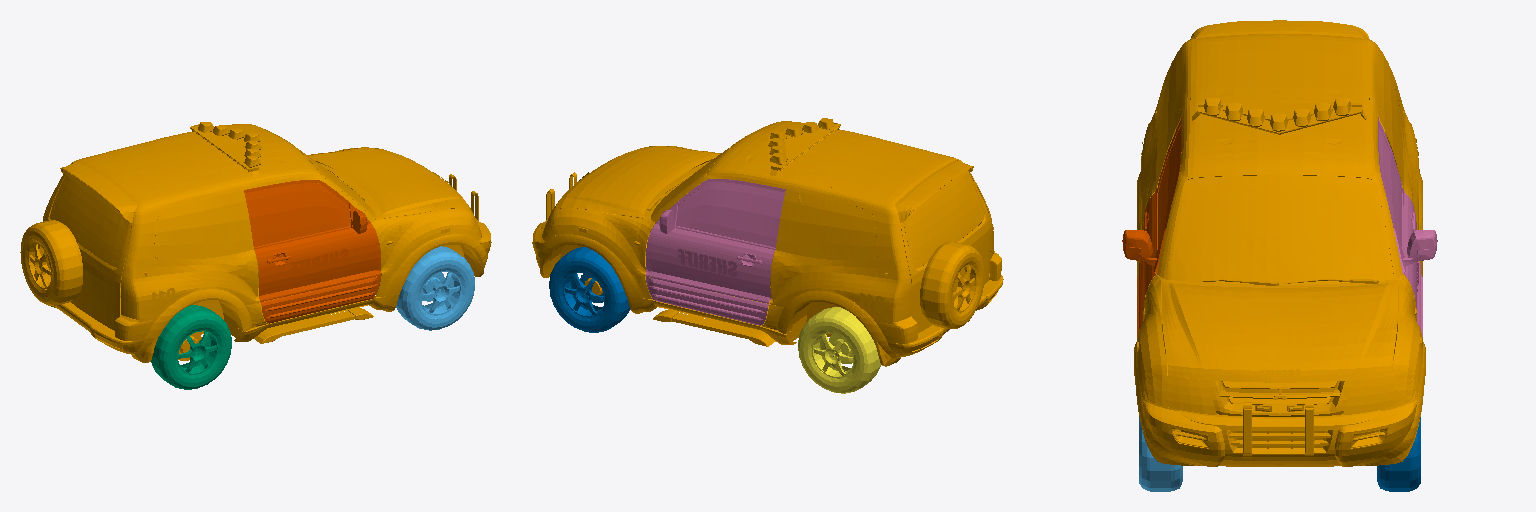
The robot description file, URDF, robot "predicted_car_backward_hinged":
<?xml version="1.0"?>
<robot name="predicted_car_backward_hinged">
  <link name="base_link">
    <visual>
      <geometry>
        <mesh filename="meshes/part_02.stl"/>
      </geometry>
    </visual>
    <visual>
      <geometry>
        <mesh filename="meshes/part_07.stl"/>
      </geometry>
    </visual>
    <visual>
      <geometry>
        <mesh filename="meshes/part_08.stl"/>
      </geometry>
    </visual>
    <visual>
      <geometry>
        <mesh filename="meshes/part_09.stl"/>
      </geometry>
    </visual>
    <visual>
      <geometry>
        <mesh filename="meshes/part_10.stl"/>
      </geometry>
    </visual>
    <visual>
      <geometry>
        <mesh filename="meshes/part_11.stl"/>
      </geometry>
    </visual>
    <visual>
      <geometry>
        <mesh filename="meshes/part_12.stl"/>
      </geometry>
    </visual>
  </link>
  <link name="link_user_sketch_1779224070224_J0">
    <visual>
      <origin xyz="-0.3199 0.1786 0.1377" rpy="0 0 0"/>
      <geometry>
        <mesh filename="meshes/part_01.stl"/>
      </geometry>
    </visual>
  </link>
  <joint name="joint_user_sketch_1779224070224_J0" type="continuous">
    <parent link="base_link"/>
    <child link="link_user_sketch_1779224070224_J0"/>
    <origin xyz="0.3199 -0.1786 -0.1377" rpy="0 0 0"/>
    <axis xyz="0.0000 -1.0000 0.0000"/>
  </joint>
  <link name="link_user_sketch_1779224070224_J1">
    <visual>
      <origin xyz="0.2687 0.1786 0.1377" rpy="0 0 0"/>
      <geometry>
        <mesh filename="meshes/part_06.stl"/>
      </geometry>
    </visual>
  </link>
  <joint name="joint_user_sketch_1779224070224_J1" type="continuous">
    <parent link="base_link"/>
    <child link="link_user_sketch_1779224070224_J1"/>
    <origin xyz="-0.2687 -0.1786 -0.1377" rpy="0 0 0"/>
    <axis xyz="0.0000 -1.0000 0.0000"/>
  </joint>
  <link name="link_user_sketch_1779224070224_J2">
    <visual>
      <origin xyz="0.2687 -0.1786 0.1377" rpy="0 0 0"/>
      <geometry>
        <mesh filename="meshes/part_05.stl"/>
      </geometry>
    </visual>
  </link>
  <joint name="joint_user_sketch_1779224070224_J2" type="continuous">
    <parent link="base_link"/>
    <child link="link_user_sketch_1779224070224_J2"/>
    <origin xyz="-0.2687 0.1786 -0.1377" rpy="0 0 0"/>
    <axis xyz="0.0000 1.0000 0.0000"/>
  </joint>
  <link name="link_user_sketch_1779224070224_J3">
    <visual>
      <origin xyz="-0.3199 -0.1786 0.1377" rpy="0 0 0"/>
      <geometry>
        <mesh filename="meshes/part_00.stl"/>
      </geometry>
    </visual>
  </link>
  <joint name="joint_user_sketch_1779224070224_J3" type="continuous">
    <parent link="base_link"/>
    <child link="link_user_sketch_1779224070224_J3"/>
    <origin xyz="0.3199 0.1786 -0.1377" rpy="0 0 0"/>
    <axis xyz="0.0000 1.0000 0.0000"/>
  </joint>
  <link name="link_user_sketch_1779224070224_J4">
    <visual>
      <origin xyz="0.1181 0.1767 -0.0750" rpy="0 0 0"/>
      <geometry>
        <mesh filename="meshes/part_04.stl"/>
      </geometry>
    </visual>
  </link>
  <joint name="joint_user_sketch_1779224070224_J4" type="revolute">
    <parent link="base_link"/>
    <child link="link_user_sketch_1779224070224_J4"/>
    <origin xyz="-0.1181 -0.1767 0.0750" rpy="0 0 0"/>
    <axis xyz="0.0195 -0.2261 -0.9739"/>
    <limit lower="0.0" upper="1.5708" effort="1000" velocity="1.0"/>
  </joint>
  <link name="link_user_sketch_1779224070224_J5">
    <visual>
      <origin xyz="0.1193 -0.1693 -0.1125" rpy="0 0 0"/>
      <geometry>
        <mesh filename="meshes/part_03.stl"/>
      </geometry>
    </visual>
  </link>
  <joint name="joint_user_sketch_1779224070224_J5" type="revolute">
    <parent link="base_link"/>
    <child link="link_user_sketch_1779224070224_J5"/>
    <origin xyz="-0.1193 0.1693 0.1125" rpy="0 0 0"/>
    <axis xyz="-0.0173 -0.3043 0.9524"/>
    <limit lower="0.0" upper="1.5708" effort="1000" velocity="1.0"/>
  </joint>
</robot>

--- Facts derived from the render (not from the file) ---
Views: 3 orthographic renders of the robot side by side, from view 1: azimuth 30°, elevation 25°; view 2: azimuth 150°, elevation 25°; view 3: azimuth 270°, elevation 25°.
Model predicted_car_backward_hinged with 7 links and 6 joints (2 revolute, 4 continuous), rooted at base_link, posed every joint at zero.
Visible links, largest first — view 1: base_link, link_user_sketch_1779224070224_J4, link_user_sketch_1779224070224_J1, link_user_sketch_1779224070224_J0; view 2: base_link, link_user_sketch_1779224070224_J5, link_user_sketch_1779224070224_J2, link_user_sketch_1779224070224_J3; view 3: base_link, link_user_sketch_1779224070224_J4, link_user_sketch_1779224070224_J5, link_user_sketch_1779224070224_J0, link_user_sketch_1779224070224_J3.
Link boxes in pixels (x1,y1,x2,y2): base_link: (20,122,491,362); link_user_sketch_1779224070224_J4: (244,180,380,323); link_user_sketch_1779224070224_J1: (151,305,231,389); link_user_sketch_1779224070224_J0: (396,246,474,330); base_link: (532,118,1003,366); link_user_sketch_1779224070224_J5: (645,179,785,325); link_user_sketch_1779224070224_J2: (798,307,880,393); link_user_sketch_1779224070224_J3: (549,247,629,332); base_link: (1134,20,1425,466); link_user_sketch_1779224070224_J4: (1122,117,1181,336); link_user_sketch_1779224070224_J5: (1378,117,1437,336); link_user_sketch_1779224070224_J0: (1139,417,1182,491); link_user_sketch_1779224070224_J3: (1377,417,1420,491).
Size in the robot's own frame: 1 by 0.472 by 0.4529 metres.
Meshes: 13 distinct files referenced, 13 mesh visuals loaded (13 binary STL).
